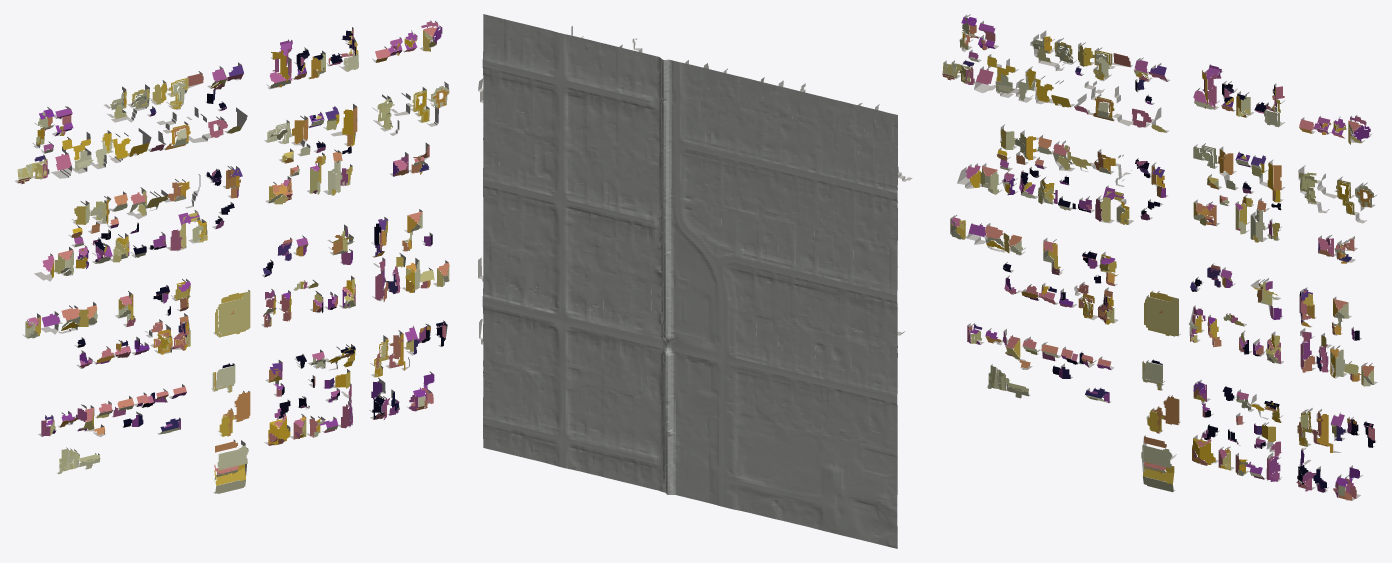
File: block.glb
3 views of the same model, side by side, from view 1: azimuth 30°, elevation 25°; view 2: azimuth 150°, elevation 25°; view 3: azimuth 330°, elevation 25° (orthographic).
Visible parts, largest first — view 1: geometry_1; view 2: geometry_0, geometry_1; view 3: geometry_1.
Part boxes in pixels (bbox=[...]): geometry_1: bbox=[15, 20, 449, 493]; geometry_0: bbox=[482, 14, 897, 548]; geometry_1: bbox=[478, 26, 912, 429]; geometry_1: bbox=[942, 14, 1377, 500].
Bounding box in the file's own units: 416 × 411 × 23.58.
